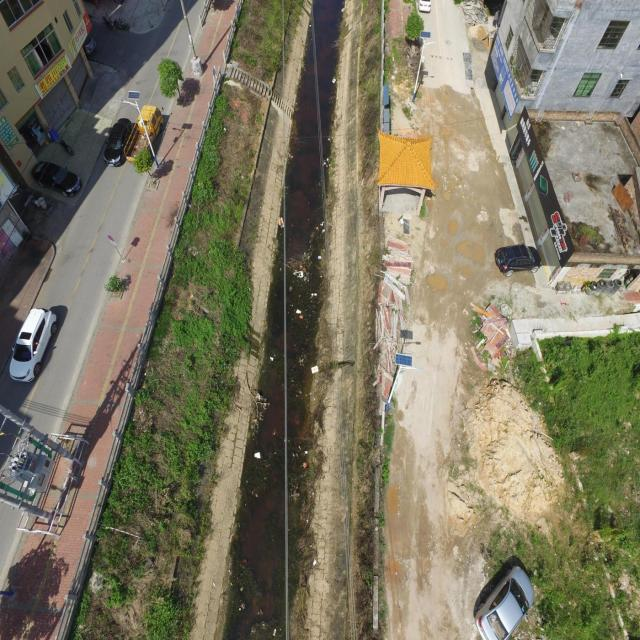car: (473, 559, 535, 639), (8, 306, 58, 382), (32, 160, 82, 198), (494, 244, 541, 277), (103, 118, 133, 167), (418, 0, 431, 12)
tree: (157, 58, 184, 100), (404, 10, 424, 45)
